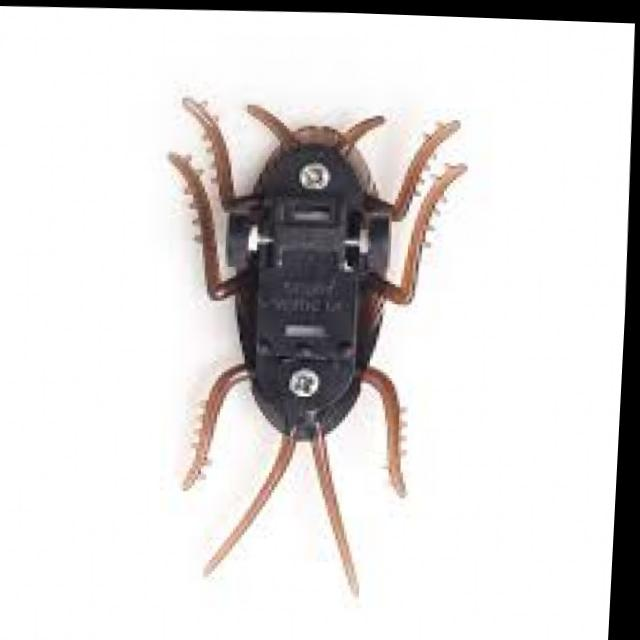Cockroach: (152, 43, 480, 602)
